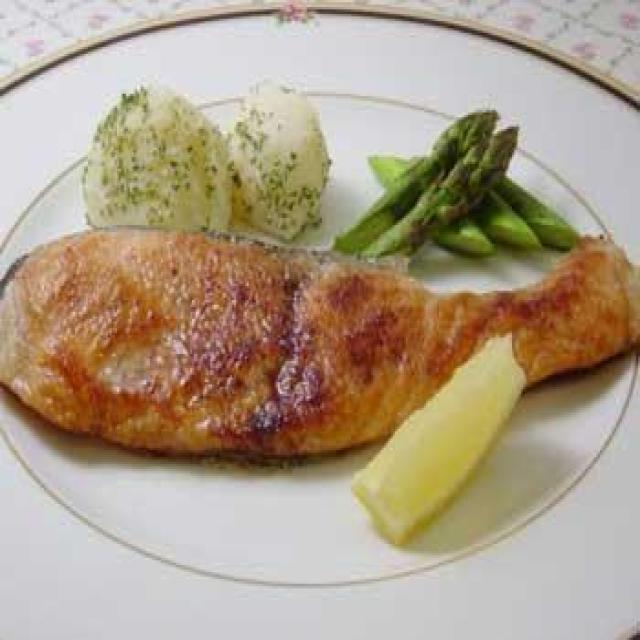熟制海鲜: (0, 223, 640, 478)
